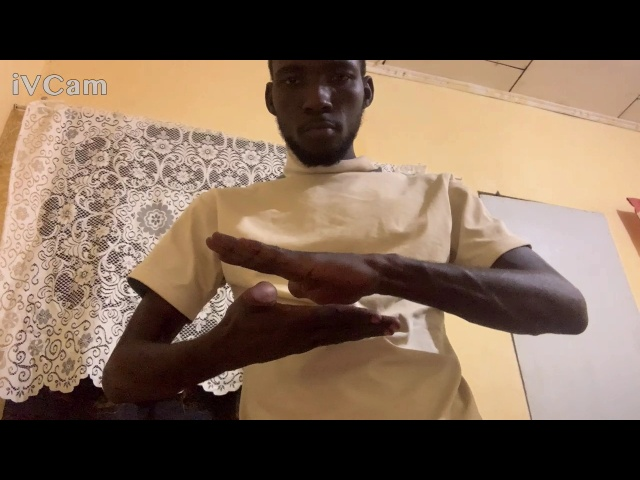pardon: (196, 218, 458, 370)
